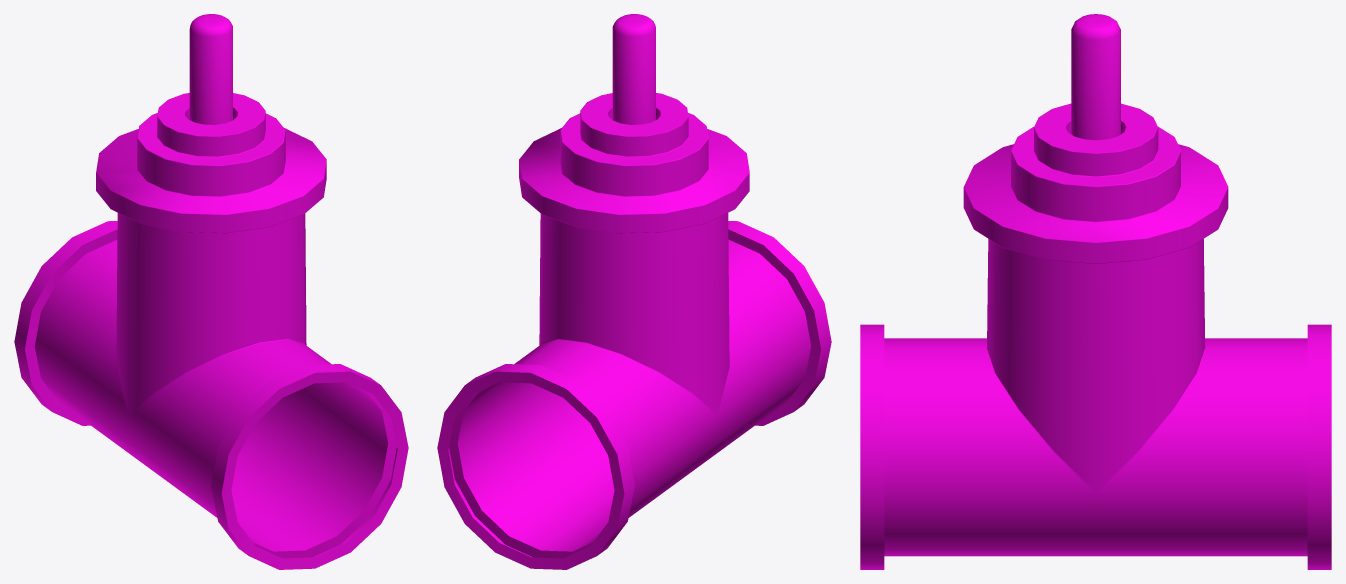
Rendered from sm_pipe_F.fbx.
3 renders of one model, left to right at view 1: azimuth 30°, elevation 25°; view 2: azimuth 150°, elevation 25°; view 3: azimuth 270°, elevation 25°, orthographic. The views are drawn at different scales.
Visible parts, largest first — view 1: Straight.010; view 2: Straight.010; view 3: Straight.010.
Boxes of the visible parts, x1,y1,x2,y2 form: Straight.010: [14, 14, 408, 569]; Straight.010: [437, 14, 831, 569]; Straight.010: [860, 14, 1331, 569].
Size of the model in its own units: 75.16 by 169 by 134.
